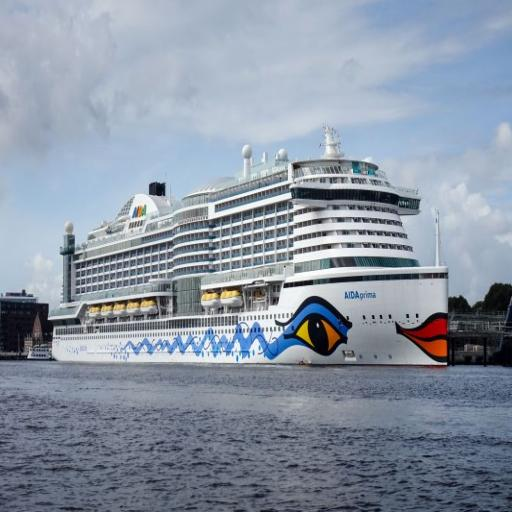cruises: (49, 122, 457, 373)
